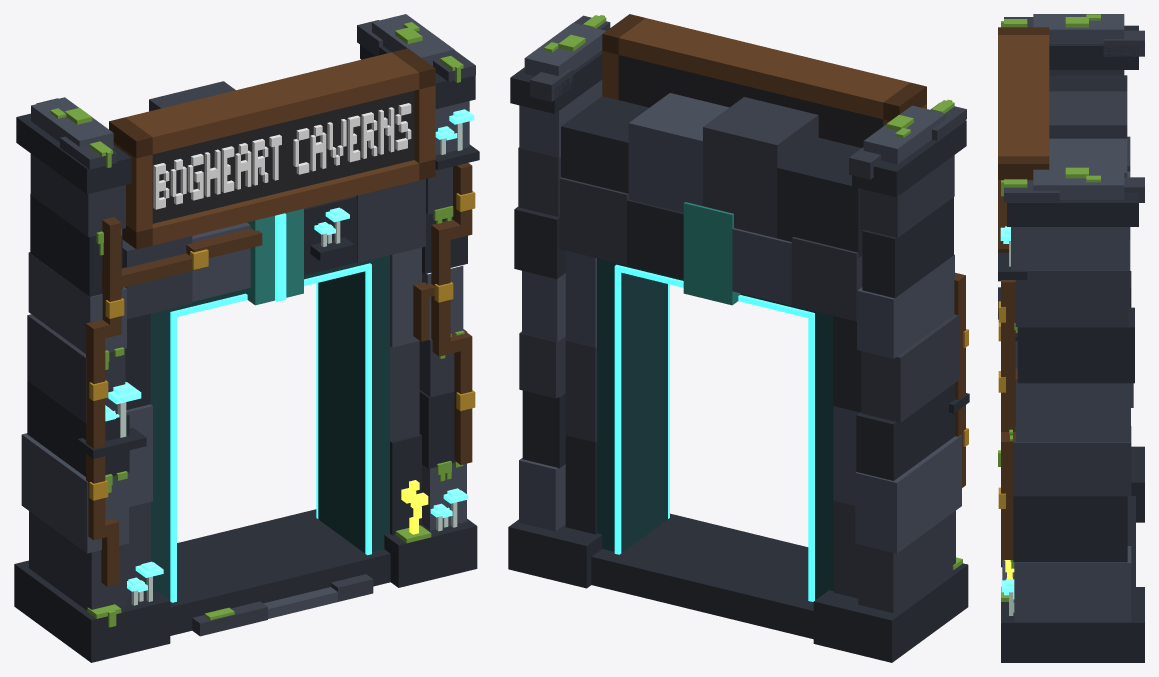
The model's file is Lobby_PortalArch_BogheartCaverns.glb.
The picture shows the model from 3 angles, left to right: view 1: azimuth 30°, elevation 25°; view 2: azimuth 150°, elevation 25°; view 3: azimuth 270°, elevation 25°; orthographic projection. The views are drawn at different scales.
Visible parts, largest first — view 1: RockPillars_RockDark, InnerRing, SignFrame_SignFrame, RockPillars_RockLight, RockPillars_Rock, Roots, RockBase_RockDark, SignBoard, RockLintel_Rock, SignText, RimGlow, RockJambs_RockLight (+14 smaller); view 2: RockPillars_RockDark, RockPillars_RockLight, RockPillars_Rock, InnerRing, RockLintel_Rock, RockLintel_RockDark, RockBase_RockDark, SignFrame_SignFrame, RockLintel_RockLight, SignBoard, RimGlow, RockJambs_RockDark (+6 smaller); view 3: RockPillars_RockDark, RockPillars_RockLight, RockPillars_Rock, SignFrame_SignFrame, RockLintel_Rock, Roots, RockLintel_RockLight, SignFrame_SignFrameDark, BogMoss, RockLintel_RockDark, RockBase_RockDark, RootKnots (+1 smaller).
Boxes of the visible parts, bbox=[...] form: RockPillars_RockDark: bbox=[14, 33, 479, 662]; InnerRing: bbox=[150, 255, 389, 600]; SignFrame_SignFrame: bbox=[113, 52, 435, 245]; RockPillars_RockLight: bbox=[21, 14, 469, 553]; RockPillars_Rock: bbox=[27, 20, 475, 610]; Roots: bbox=[86, 163, 472, 586]; RockBase_RockDark: bbox=[170, 509, 390, 635]; SignBoard: bbox=[152, 91, 414, 223]; RockLintel_Rock: bbox=[122, 81, 425, 319]; SignText: bbox=[153, 103, 411, 209]; RimGlow: bbox=[170, 263, 371, 602]; RockJambs_RockLight: bbox=[126, 247, 421, 506]; RockPillars_RockDark: bbox=[508, 50, 969, 662]; RockPillars_RockLight: bbox=[519, 22, 961, 553]; RockPillars_Rock: bbox=[518, 15, 966, 612]; InnerRing: bbox=[597, 258, 833, 600]; RockLintel_Rock: bbox=[559, 97, 862, 321]; RockLintel_RockDark: bbox=[561, 96, 862, 279]; RockBase_RockDark: bbox=[591, 513, 813, 639]; SignFrame_SignFrame: bbox=[602, 18, 926, 126]; RockLintel_RockLight: bbox=[628, 93, 791, 305]; SignBoard: bbox=[618, 55, 883, 147]; RimGlow: bbox=[614, 264, 814, 601]; RockJambs_RockDark: bbox=[565, 316, 861, 534]; RockPillars_RockDark: bbox=[998, 25, 1144, 662]; RockPillars_RockLight: bbox=[1011, 14, 1133, 621]; RockPillars_Rock: bbox=[1004, 17, 1144, 496]; SignFrame_SignFrame: bbox=[998, 35, 1049, 248]; RockLintel_Rock: bbox=[1015, 91, 1130, 336]; Roots: bbox=[1001, 280, 1017, 559]; RockLintel_RockLight: bbox=[1049, 138, 1130, 177]; SignFrame_SignFrameDark: bbox=[998, 27, 1049, 252]; BogMoss: bbox=[998, 14, 1100, 568]; RockLintel_RockDark: bbox=[1049, 75, 1130, 239]; RockBase_RockDark: bbox=[1127, 496, 1135, 586]; RootKnots: bbox=[998, 301, 1005, 508].
Size of the model in its own units: 2.86 by 3.6 by 1.
